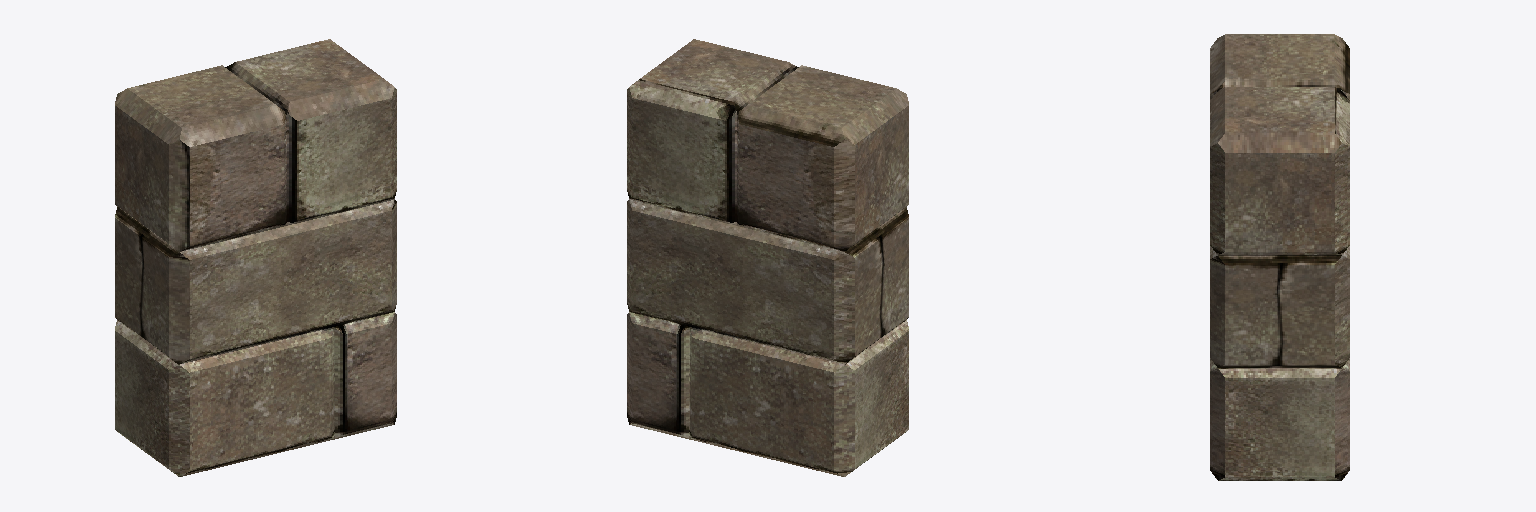
3 renders of one model, left to right at view 1: azimuth 30°, elevation 25°; view 2: azimuth 150°, elevation 25°; view 3: azimuth 270°, elevation 25°, orthographic.
Parts seen in each view (by area): view 1: Box003; view 2: Box003; view 3: Box003.
Part boxes in pixels (x1,y1,x2,y2): Box003: (115,39,396,476); Box003: (627,39,908,476); Box003: (1210,34,1349,480).
Bounding box in the file's own units: 1.06 × 1.53 × 0.56.
1 materials, 1 textured.